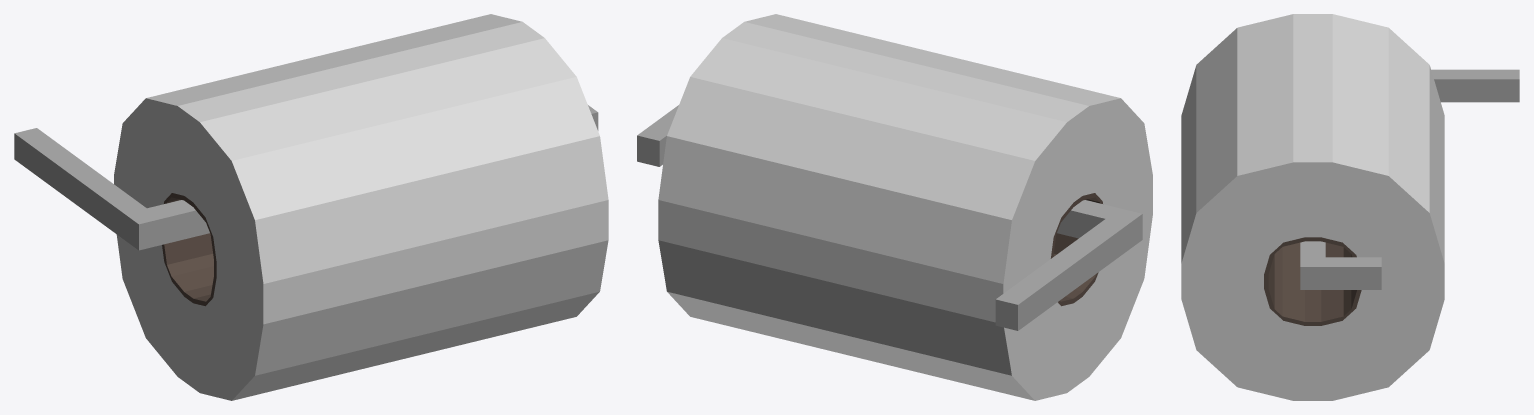
File: tp_holder.fbx
3 renders of one model, left to right at view 1: azimuth 30°, elevation 25°; view 2: azimuth 150°, elevation 25°; view 3: azimuth 270°, elevation 25°, orthographic. The views are drawn at different scales.
Parts seen in each view (by area): view 1: Cube; view 2: Cube; view 3: Cube.
Part boxes in pixels (bbox=[...]): Cube: bbox=[14, 14, 608, 400]; Cube: bbox=[637, 14, 1152, 400]; Cube: bbox=[1181, 14, 1519, 400].
Size of the model in its own units: 26.62 by 19.27 by 15.
